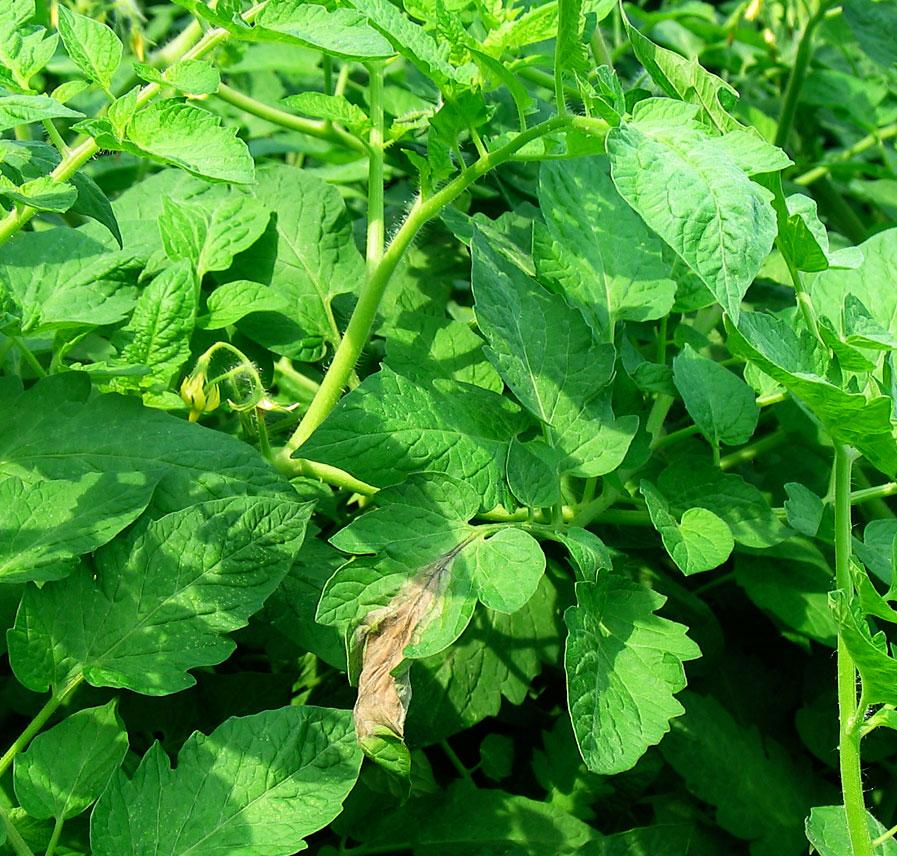Tomato leaf: (10, 483, 315, 731), (447, 208, 641, 510), (82, 717, 371, 856), (557, 540, 706, 785), (537, 125, 682, 376), (0, 444, 144, 607), (6, 695, 136, 827), (818, 217, 897, 410), (102, 109, 270, 182)
Tomato leaf late blight: (319, 502, 534, 717)
